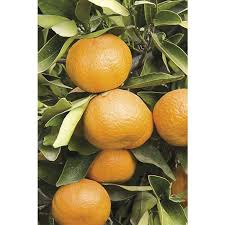orange: (83, 90, 155, 153), (67, 33, 135, 91), (47, 178, 113, 225), (151, 77, 188, 151), (85, 149, 138, 183)
